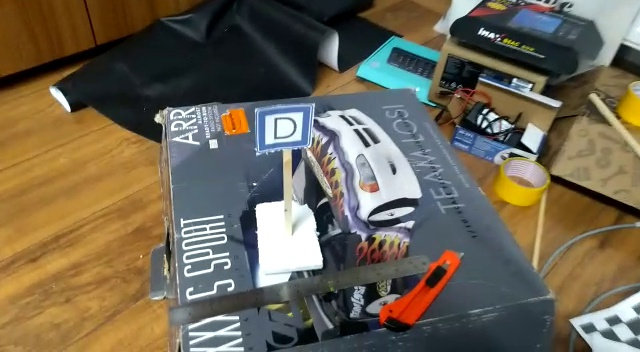durak: (252, 102, 315, 154)
